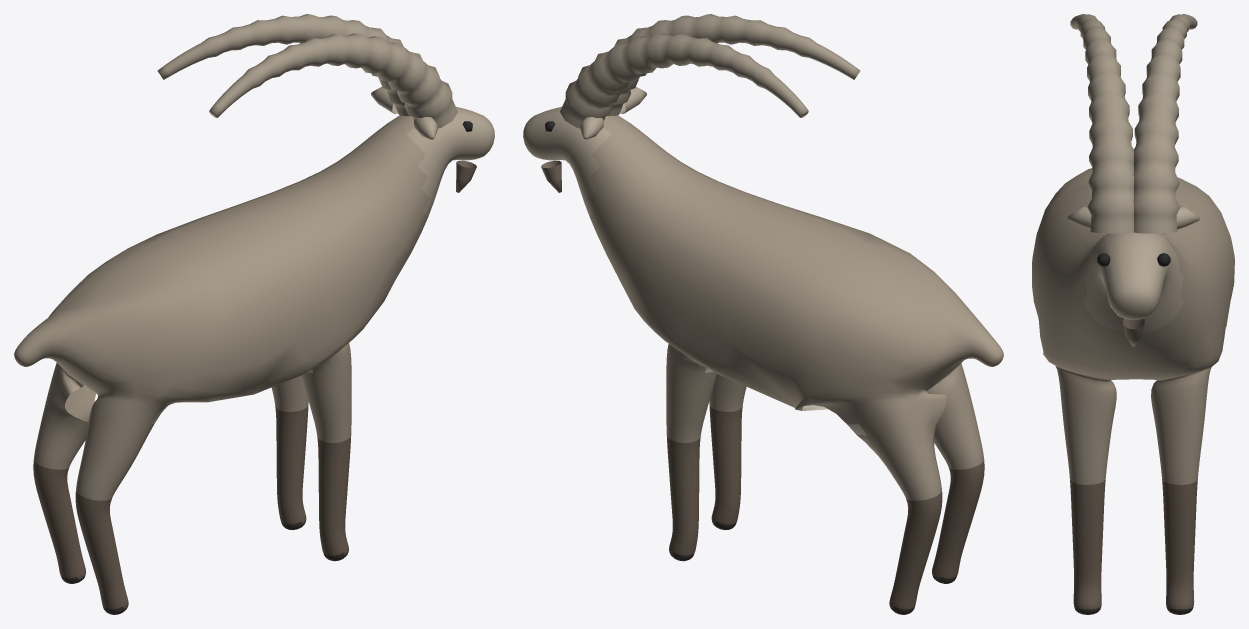
Rendered from steinbock.glb.
3 renders of one model, left to right at view 1: azimuth 30°, elevation 25°; view 2: azimuth 150°, elevation 25°; view 3: azimuth 270°, elevation 25°, orthographic. The views are drawn at different scales.
Visible parts, largest first — view 1: steinbock; view 2: steinbock; view 3: steinbock.
Boxes of the visible parts, box(x1,y1,x2,y2) form: steinbock: box(14, 14, 494, 614); steinbock: box(523, 14, 1003, 614); steinbock: box(1032, 14, 1234, 614).
Bounding box in the file's own units: 1.55 × 1.62 × 0.5272.
